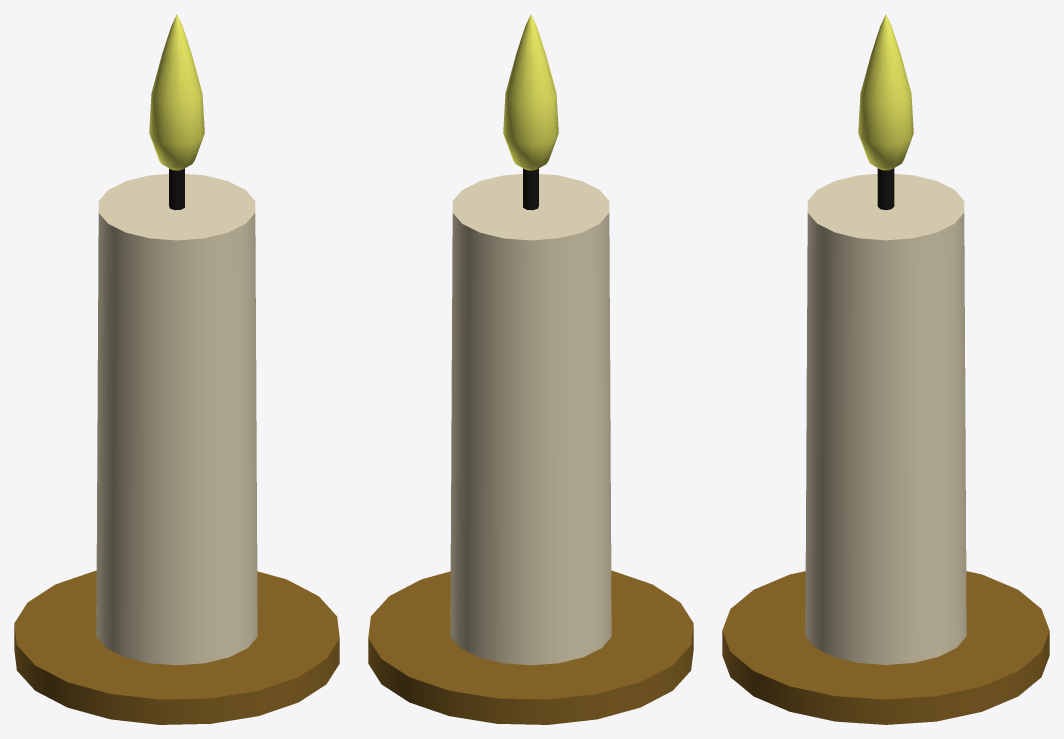
The model's file is vela.obj.
The picture shows the model from 3 angles, left to right: view 1: azimuth 30°, elevation 25°; view 2: azimuth 150°, elevation 25°; view 3: azimuth 270°, elevation 25°; orthographic projection.
Visible parts, largest first — view 1: vela; view 2: vela; view 3: vela.
Boxes of the visible parts, bbox=[...] form: vela: bbox=[14, 14, 339, 724]; vela: bbox=[368, 14, 693, 724]; vela: bbox=[722, 14, 1049, 724].
Bounding box in the file's own units: 0.14 × 0.303 × 0.14.
